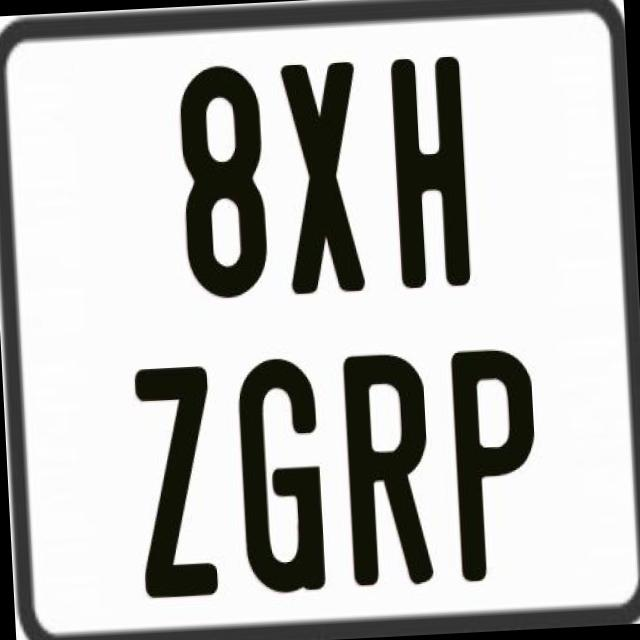8: (174, 62, 274, 300)
G: (234, 356, 327, 603)
H: (388, 55, 470, 292)
P: (448, 348, 544, 592)
R: (343, 350, 438, 594)
X: (276, 62, 366, 300)
Z: (132, 366, 224, 598)
